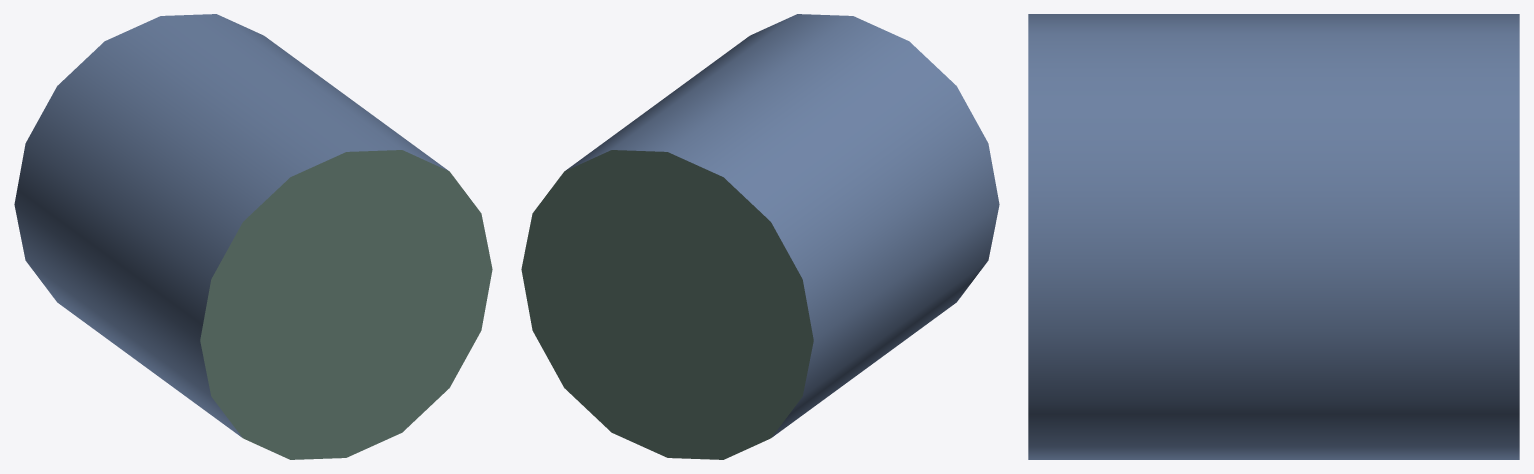
File: icub_neck_2.dae
The picture shows the model from 3 angles, left to right: view 1: azimuth 30°, elevation 25°; view 2: azimuth 150°, elevation 25°; view 3: azimuth 270°, elevation 25°; orthographic projection. The views are drawn at different scales.
Parts seen in each view (by area): view 1: neck_2_mesh; view 2: neck_2_mesh; view 3: neck_2_mesh.
Part boxes in pixels (x1,y1,x2,y2): neck_2_mesh: (14, 14, 492, 459); neck_2_mesh: (521, 14, 999, 459); neck_2_mesh: (1028, 14, 1519, 459).
Size of the model in its own units: 0.03 by 0.03 by 0.033.
